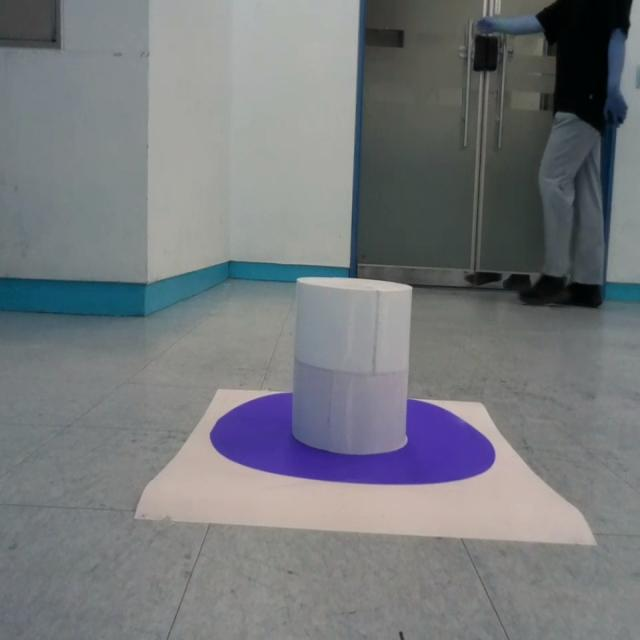cylinder: (292, 276, 412, 456)
